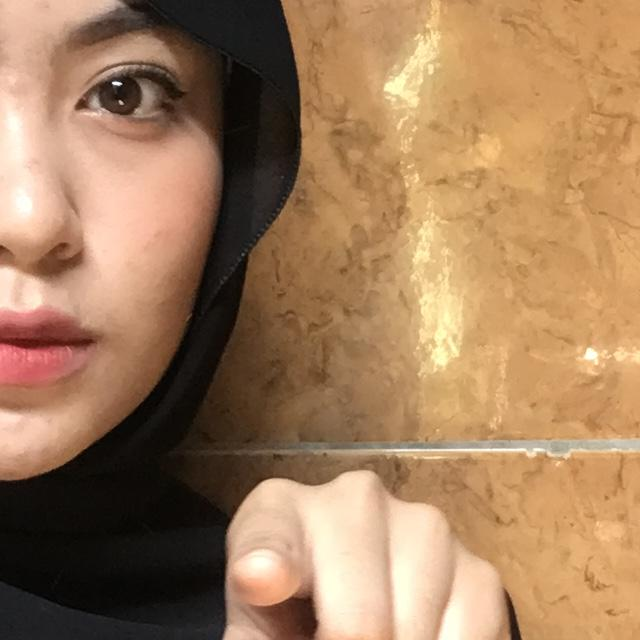kamu: (145, 406, 585, 640)
